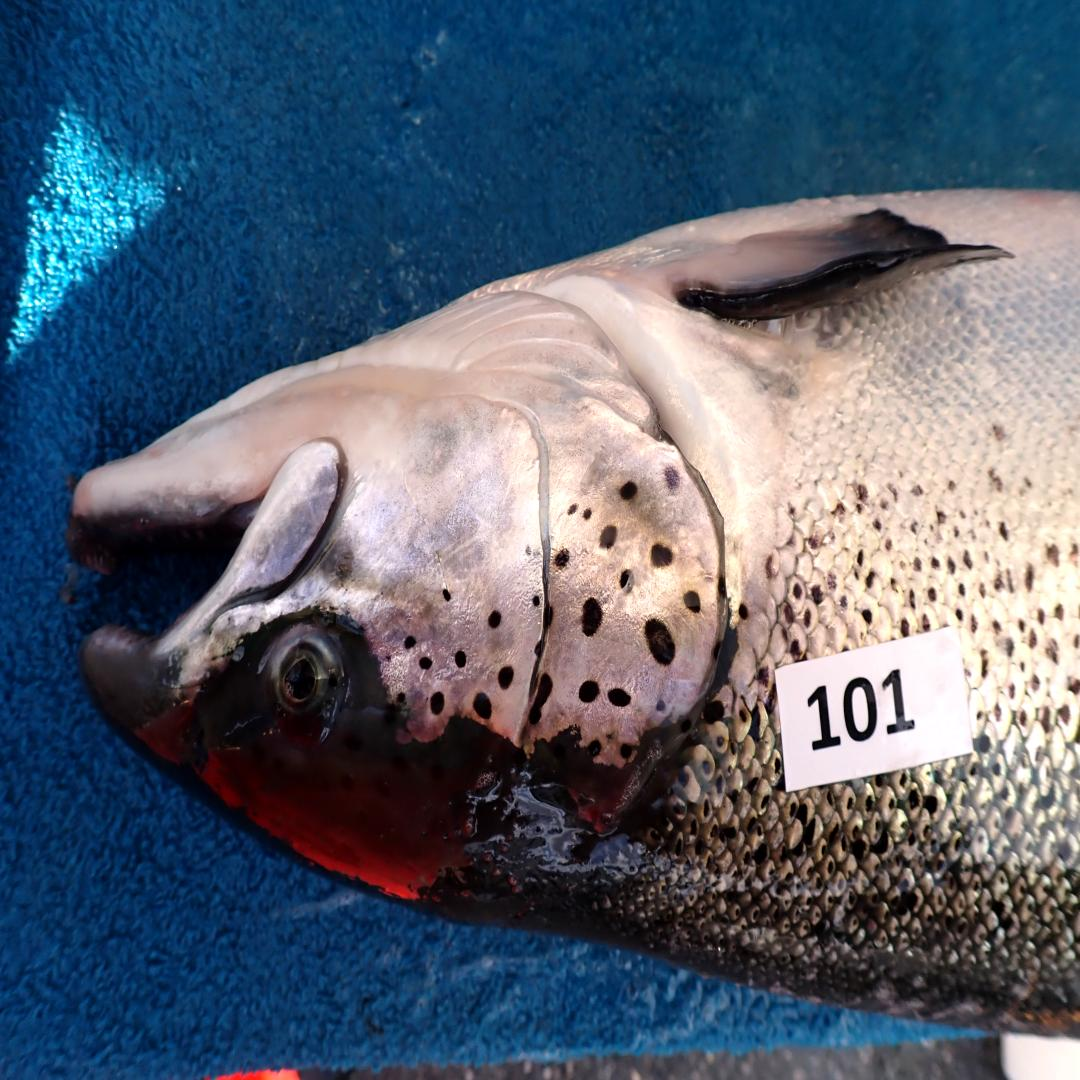roi: (343, 289, 732, 758)
